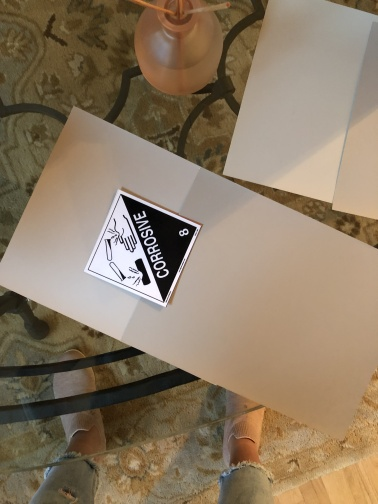Corrosive: (83, 190, 209, 310)
